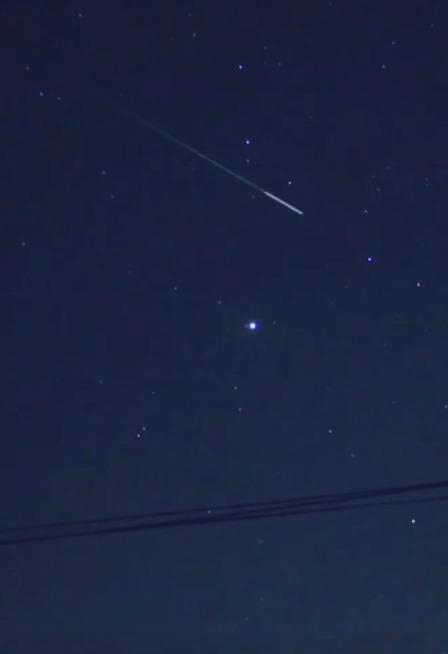meteorite: (110, 113, 312, 233)
